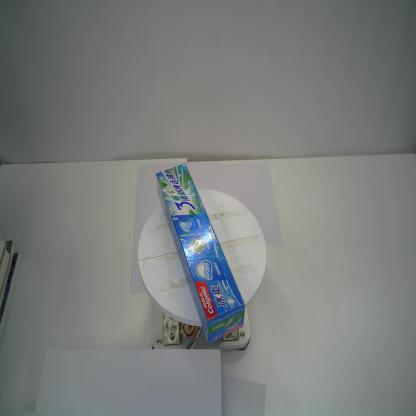Personal Hygiene: (155, 163, 245, 345)
